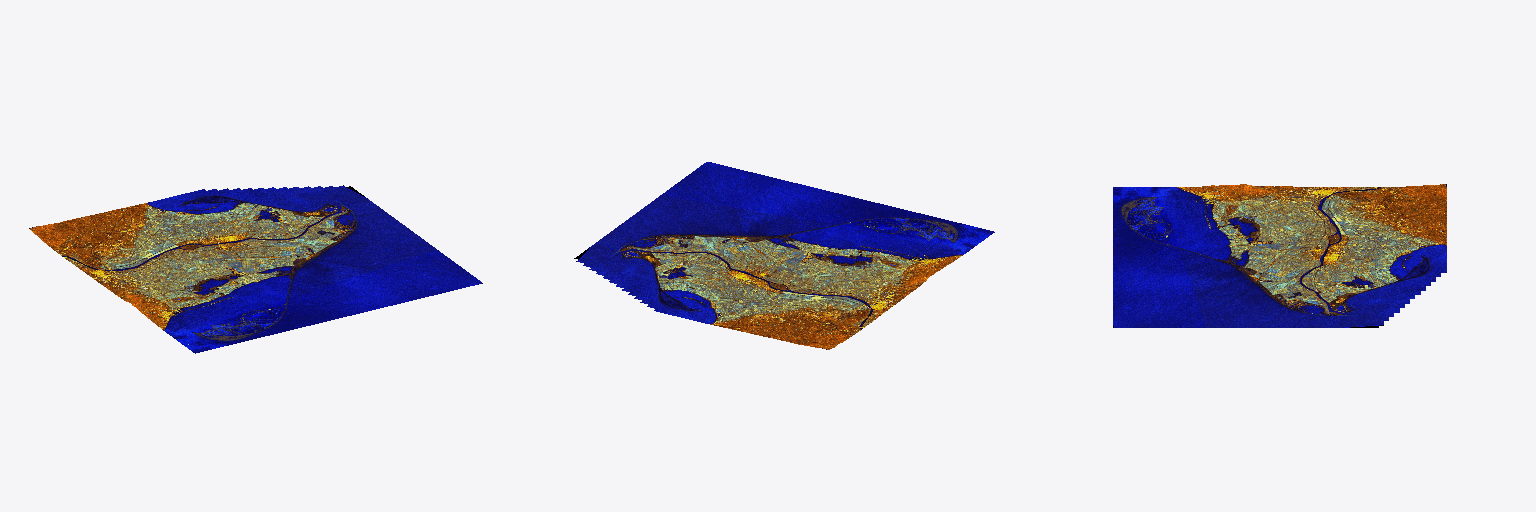
The picture shows the model from 3 angles: view 1: azimuth 30°, elevation 25°; view 2: azimuth 150°, elevation 25°; view 3: azimuth 270°, elevation 25°; orthographic projection.
Parts seen in each view (by area): view 1: deltaMulti_MetElipResi; view 2: deltaMulti_MetElipResi; view 3: deltaMulti_MetElipResi.
Part boxes in pixels (left/top/right/bottom): deltaMulti_MetElipResi: left=29, top=185, right=482, bottom=353; deltaMulti_MetElipResi: left=574, top=162, right=994, bottom=349; deltaMulti_MetElipResi: left=1113, top=184, right=1446, bottom=327.
Size of the model in its own units: 24.88 by 0.3411 by 24.88.
1 materials, 1 textured.